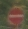No entry: (6, 5, 22, 23)
